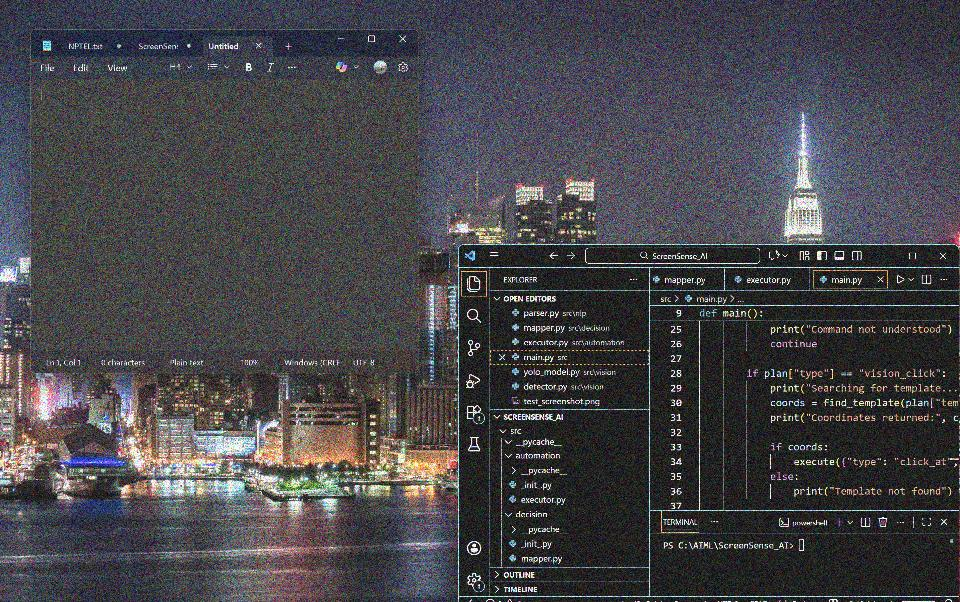close_button: (392, 30, 415, 56), (932, 246, 953, 266)
maximize_button: (362, 30, 383, 55), (904, 246, 924, 265)
minimize_button: (331, 30, 355, 54), (872, 246, 898, 266)
